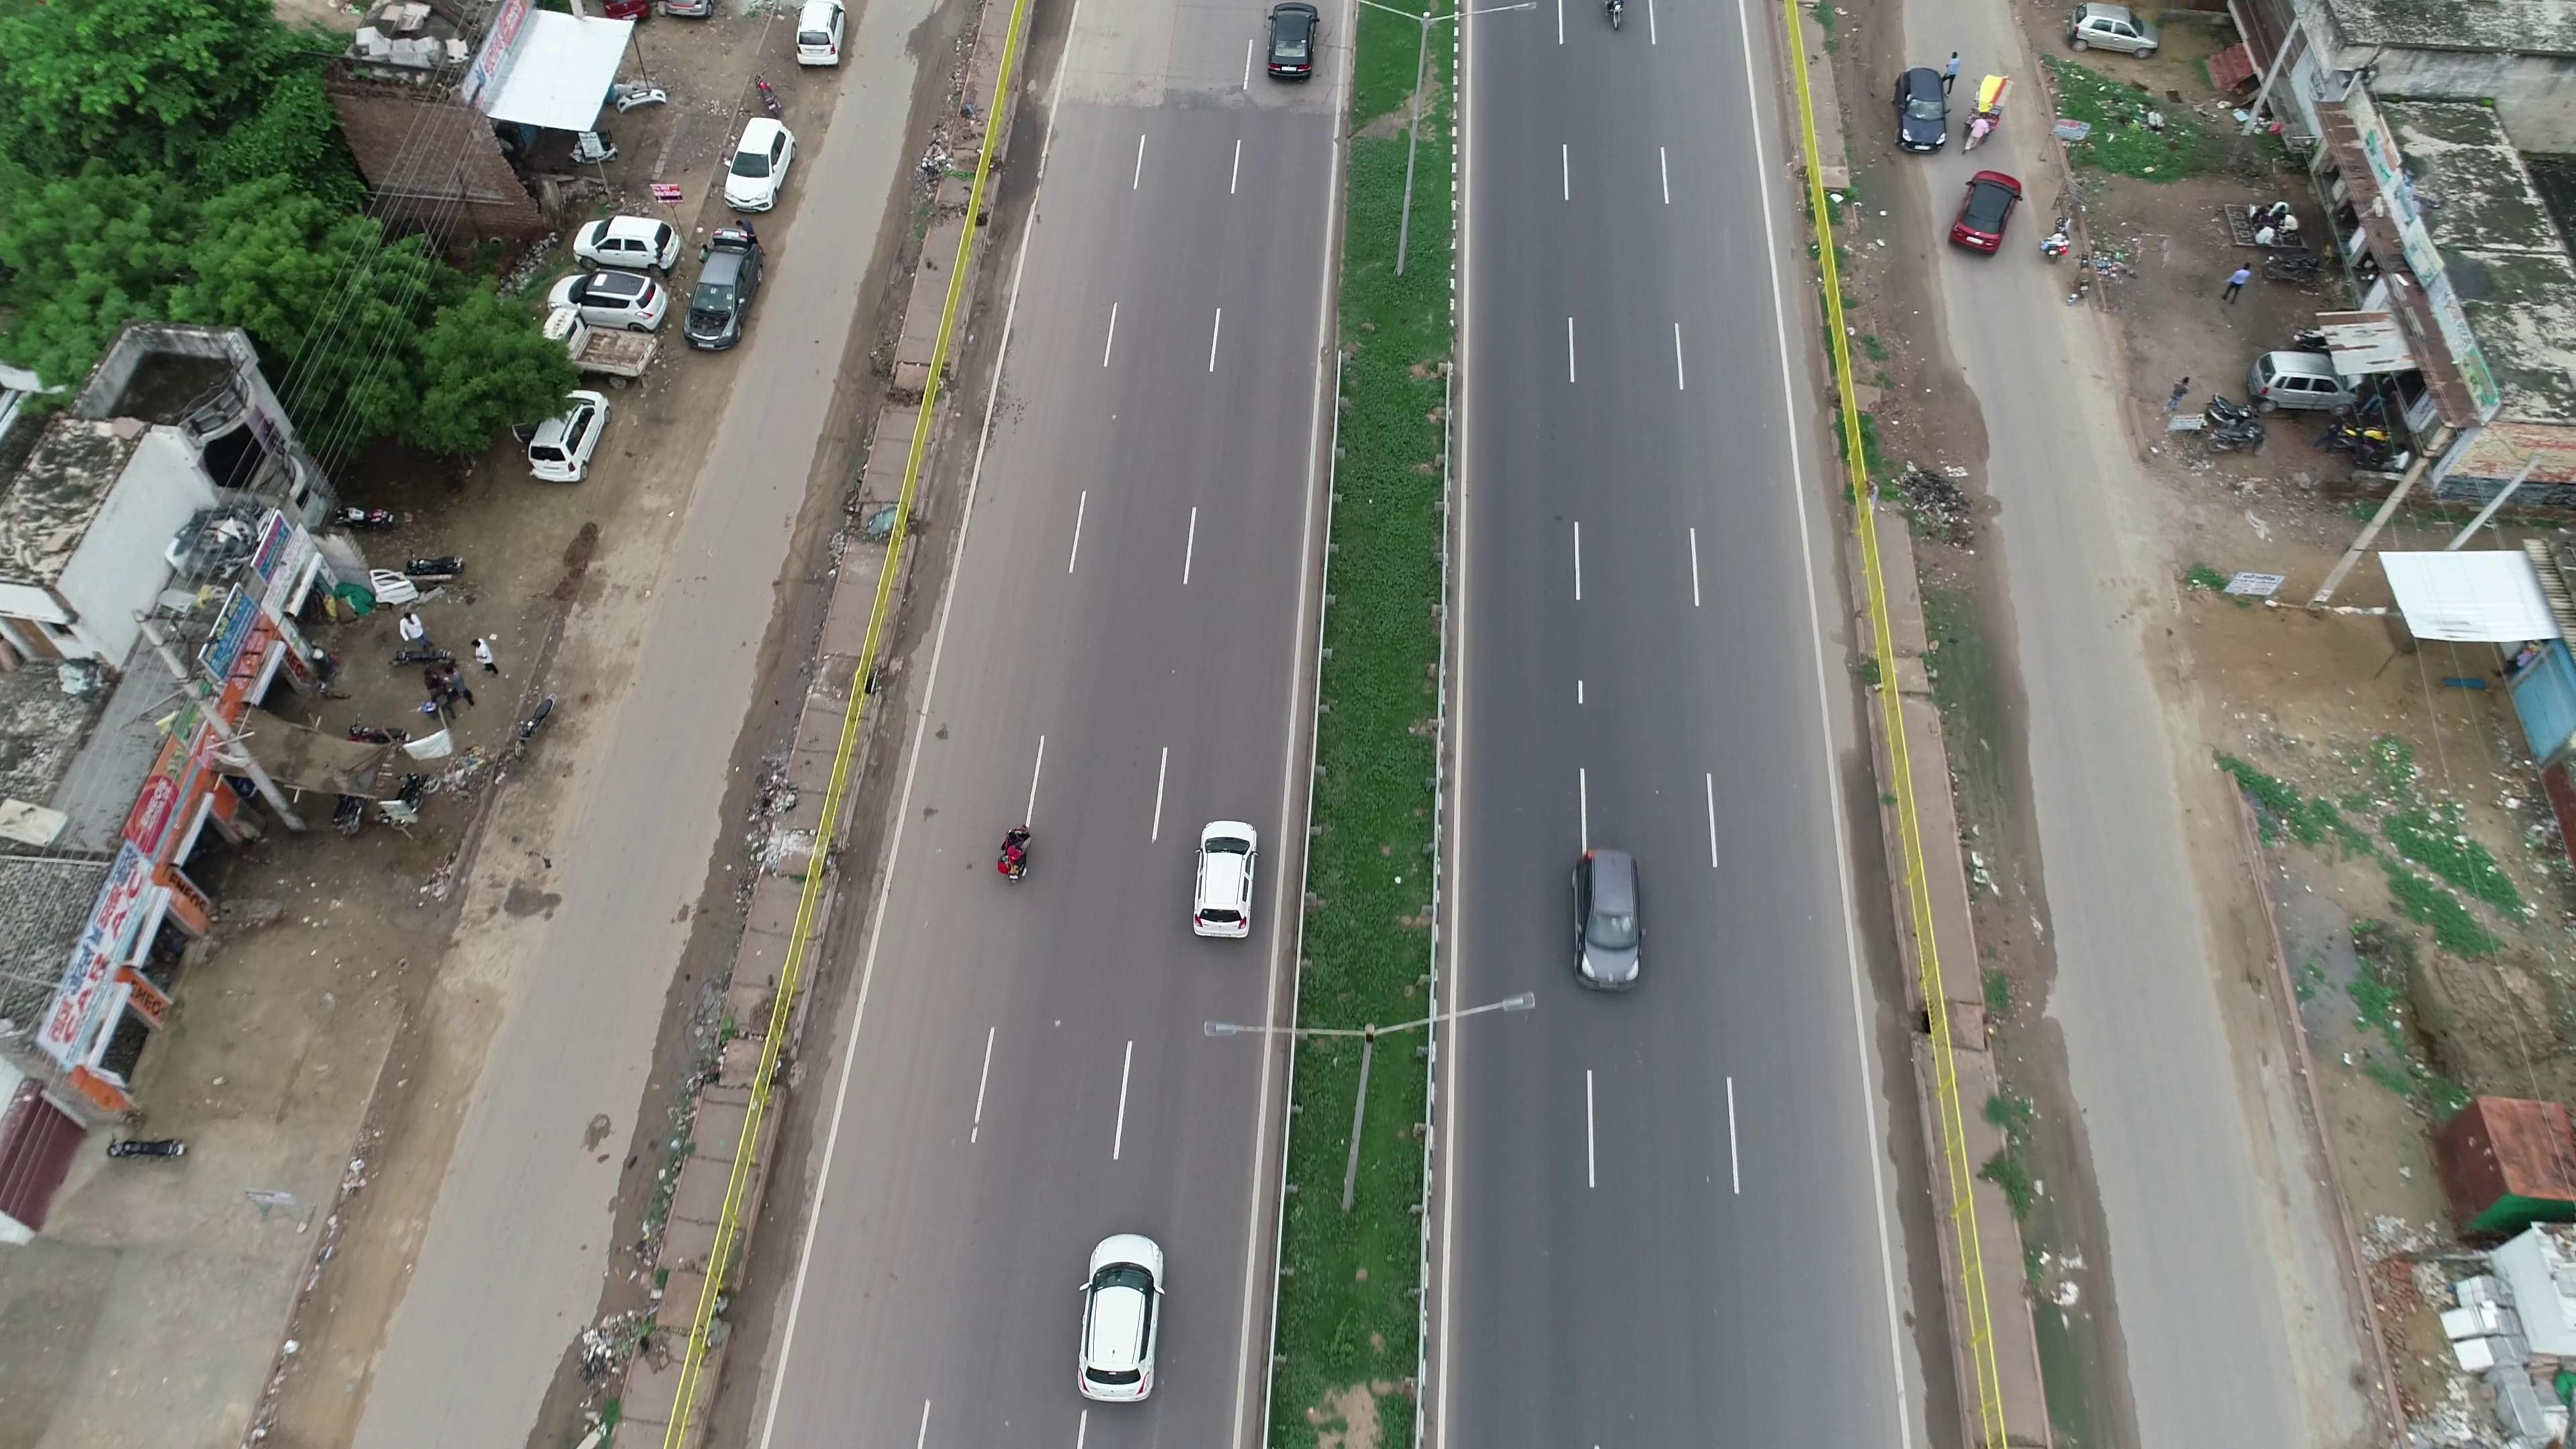Muddy_road: (1948, 607, 2065, 939)
